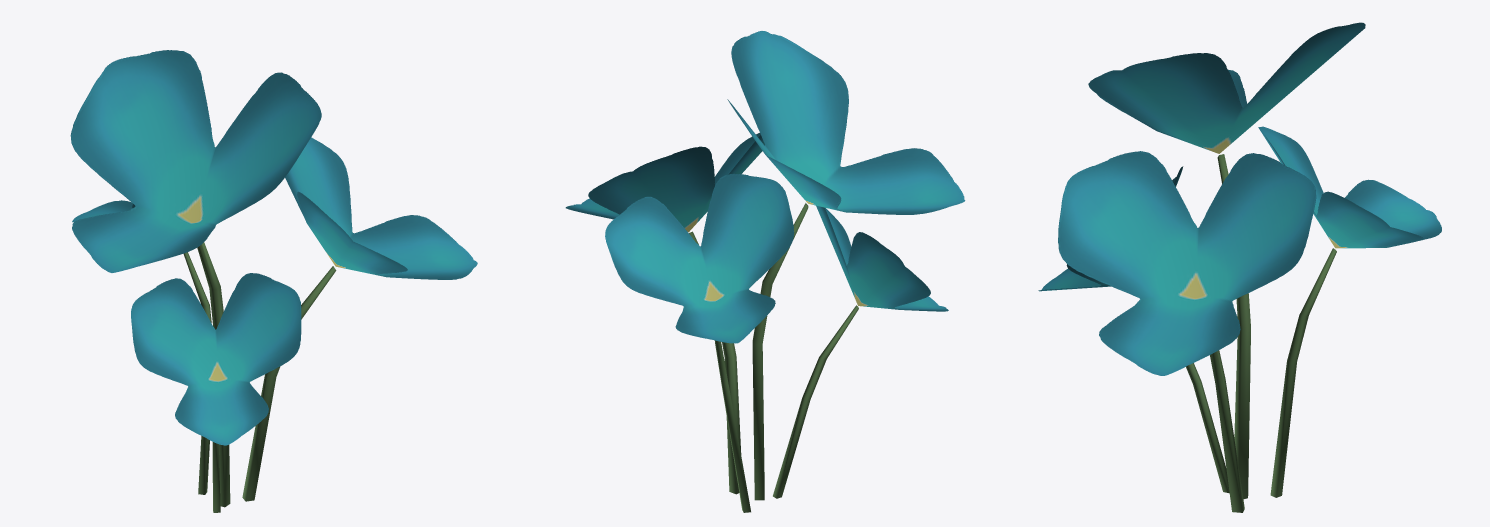
Rendered from Flower_3_Clump.gltf.
3 views of the same model, side by side, from view 1: azimuth 30°, elevation 25°; view 2: azimuth 150°, elevation 25°; view 3: azimuth 270°, elevation 25° (orthographic). The views are drawn at different scales.
Visible parts, largest first — view 1: Flower_3_Clump; view 2: Flower_3_Clump; view 3: Flower_3_Clump.
Boxes of the visible parts, x1,y1,x2,y2 form: Flower_3_Clump: (70,50,477,512); Flower_3_Clump: (565,31,965,512); Flower_3_Clump: (1038,22,1441,512).
Size of the model in its own units: 0.426 by 0.4508 by 0.3735.
Materials: 1 (1 with a texture image).
